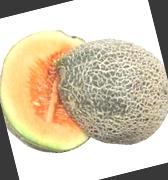Melon Ripe: (51, 25, 168, 157), (0, 22, 108, 164)
